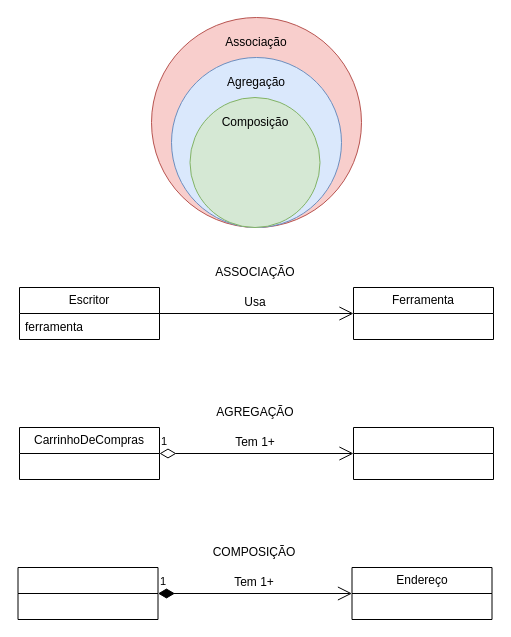
Some shapes in this 511 by 637 pixel diagram are drawn without their labels. The shapes that lost their labels are listed below. From the top down, each one's centre as x and y in pixels, then its label:
(x=423, y=453): Produto
(x=87, y=593): Cliente
